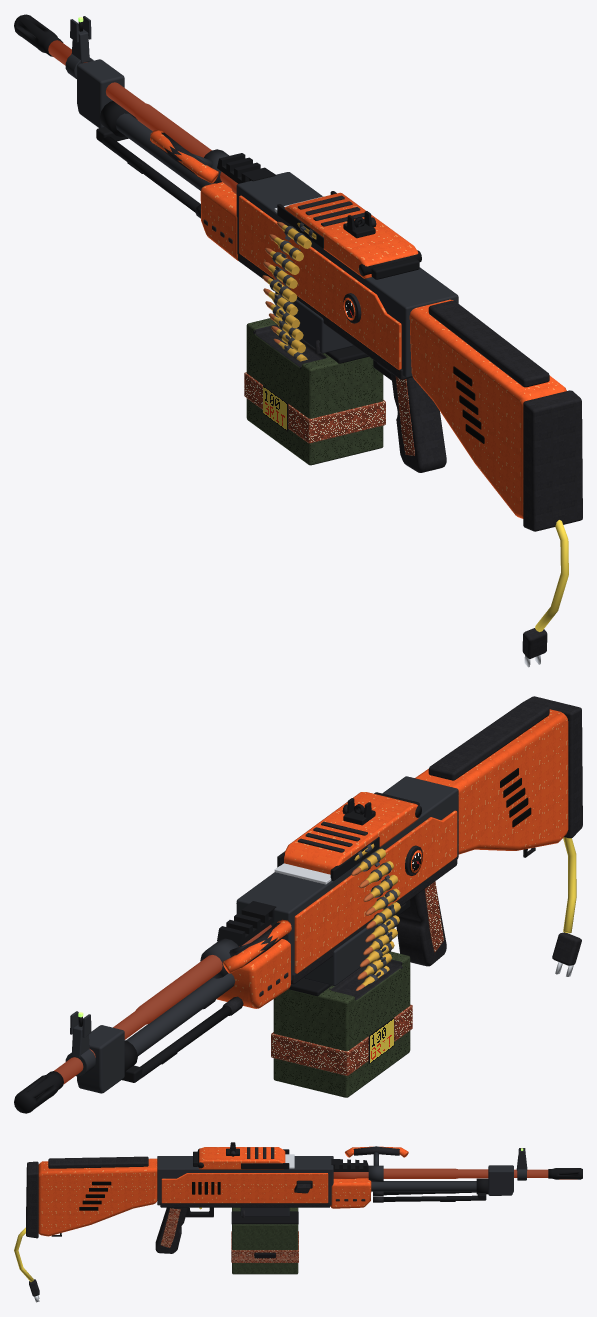
Rendered from w_lmg.glb.
The picture shows the model from 3 angles, top to bottom: view 1: azimuth 30°, elevation 25°; view 2: azimuth 150°, elevation 25°; view 3: azimuth 270°, elevation 25°; orthographic projection. The views are drawn at different scales.
Visible parts, largest first — view 1: lmg_body_wzA, lmg_body_wzB, mag_wzB, lmg_body_wzN, cover_wzA, cover_wzB; view 2: lmg_body_wzA, lmg_body_wzB, mag_wzB, lmg_body_wzN, cover_wzA, mag_wzN, cover_wzB; view 3: lmg_body_wzA, lmg_body_wzB, mag_wzB, lmg_body_wzN, cover_wzA.
Part boxes in pixels (x1,y1,x2,y2): lmg_body_wzA: (200, 182, 582, 658); lmg_body_wzB: (14, 14, 458, 380); mag_wzB: (244, 318, 385, 465); lmg_body_wzN: (48, 17, 568, 667); cover_wzA: (284, 192, 418, 278); cover_wzB: (343, 211, 421, 276); lmg_body_wzA: (216, 696, 582, 1008); lmg_body_wzB: (14, 776, 535, 1113); mag_wzB: (271, 951, 412, 1097); lmg_body_wzN: (54, 768, 576, 1084); cover_wzA: (284, 792, 418, 874); mag_wzN: (368, 1017, 394, 1063); cover_wzB: (343, 798, 421, 825); lmg_body_wzA: (26, 1156, 371, 1296); lmg_body_wzB: (51, 1146, 582, 1236); mag_wzB: (231, 1207, 298, 1274); lmg_body_wzN: (14, 1148, 548, 1302); cover_wzA: (199, 1147, 285, 1169).
Size of the model in its own units: 0.1578 by 0.4399 by 1.42.
17 materials, 6 textured.
